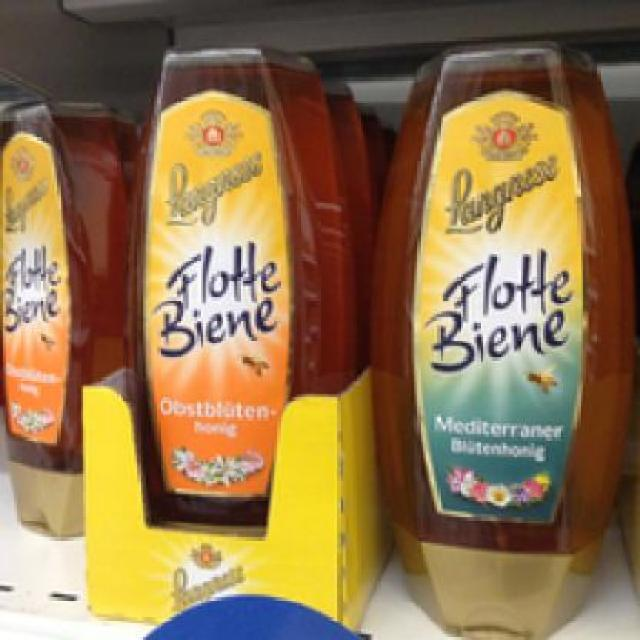Honey: (374, 45, 632, 638), (139, 46, 352, 532), (0, 97, 129, 534)
